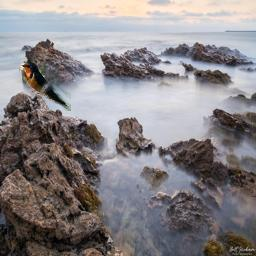Swallow: (19, 60, 71, 111)
